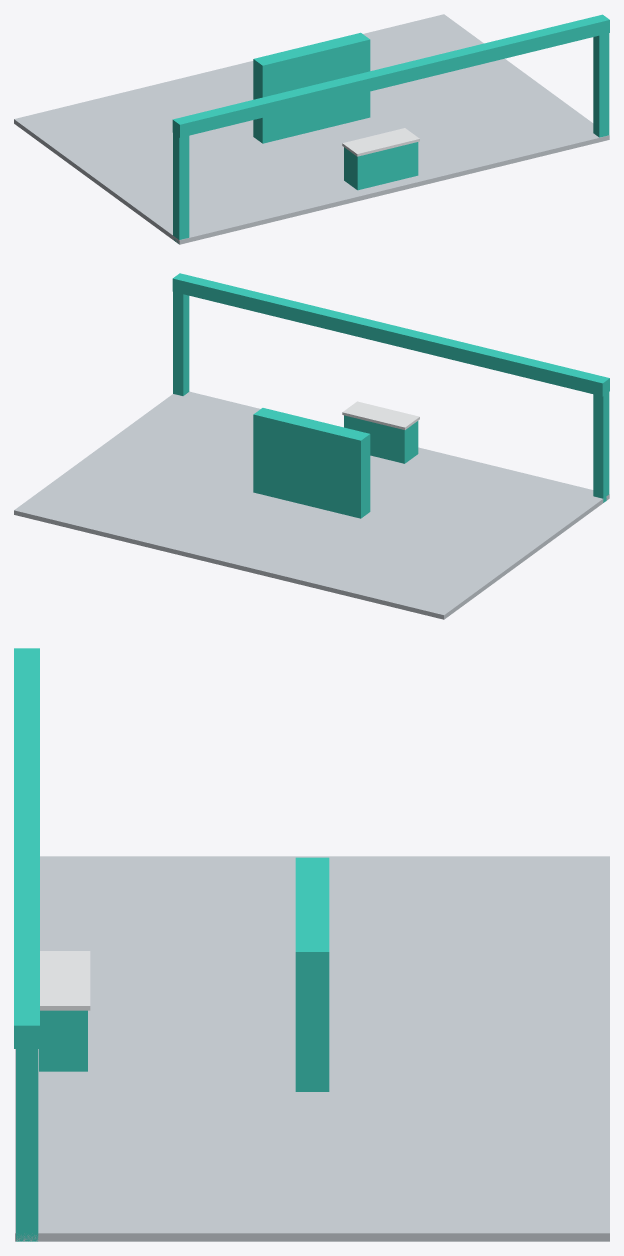
The picture shows the model from 3 angles, top to bottom: view 1: azimuth 30°, elevation 25°; view 2: azimuth 150°, elevation 25°; view 3: azimuth 270°, elevation 25°; orthographic projection. The views are drawn at different scales.
Parts seen in each view (by area): view 1: Exhibition Booth Concept; view 2: Exhibition Booth Concept; view 3: Exhibition Booth Concept.
Boxes of the visible parts, x1,y1,x2,y2 form: Exhibition Booth Concept: (14,14,609,244); Exhibition Booth Concept: (14,273,609,619); Exhibition Booth Concept: (14,648,609,1241).
Bounding box in the file's own units: 12 × 3.2 × 8.01.
